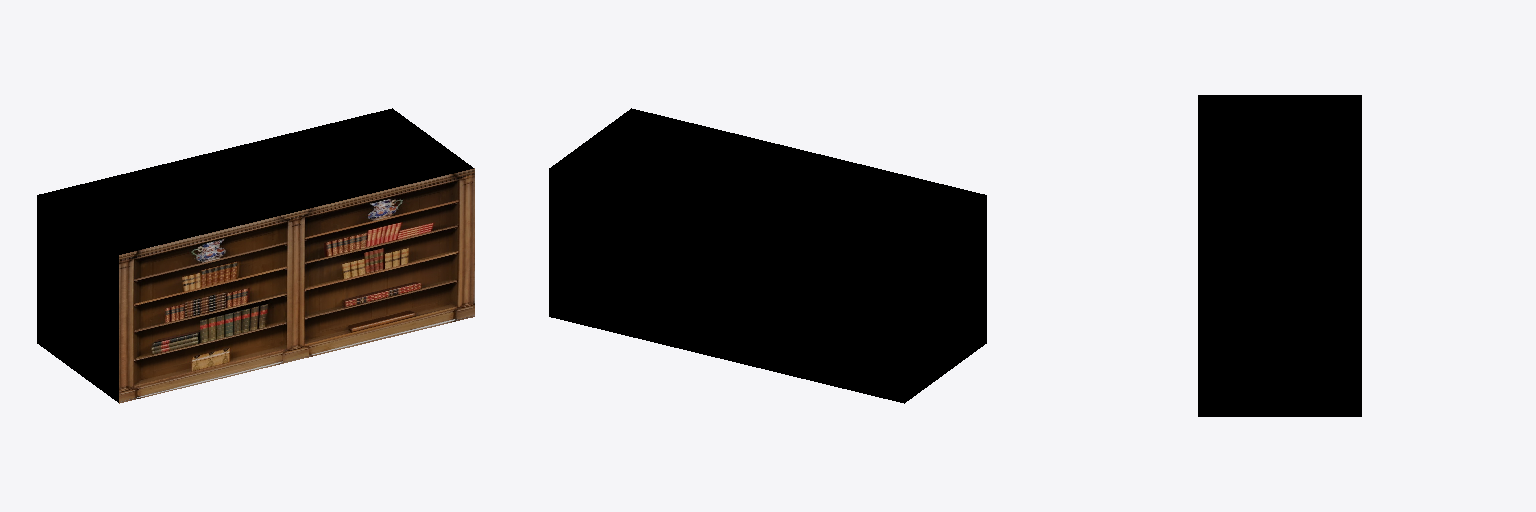
3 renders of one model, left to right at view 1: azimuth 30°, elevation 25°; view 2: azimuth 150°, elevation 25°; view 3: azimuth 270°, elevation 25°, orthographic.
Visible parts, largest first — view 1: pCube1; view 2: pCube1; view 3: pCube1.
Part boxes in pixels (left/top/right/bottom): pCube1: left=37, top=108, right=474, bottom=403; pCube1: left=549, top=108, right=986, bottom=403; pCube1: left=1198, top=95, right=1361, bottom=416.
Bounding box in the file's own units: 10 × 4 × 4.
2 materials, 1 textured.